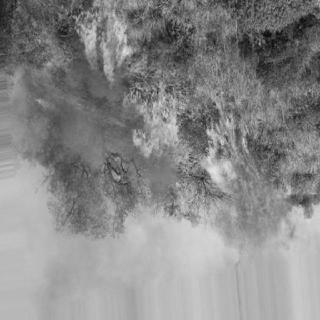Fire: (121, 79, 192, 167), (221, 162, 277, 245), (202, 86, 258, 162), (32, 95, 59, 113), (14, 2, 24, 18)
Smoke: (31, 217, 211, 314)
